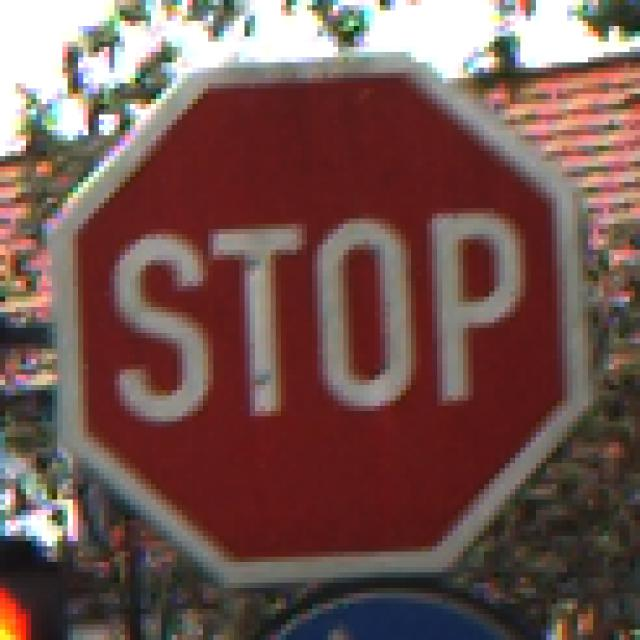STOP: (53, 53, 589, 589)
